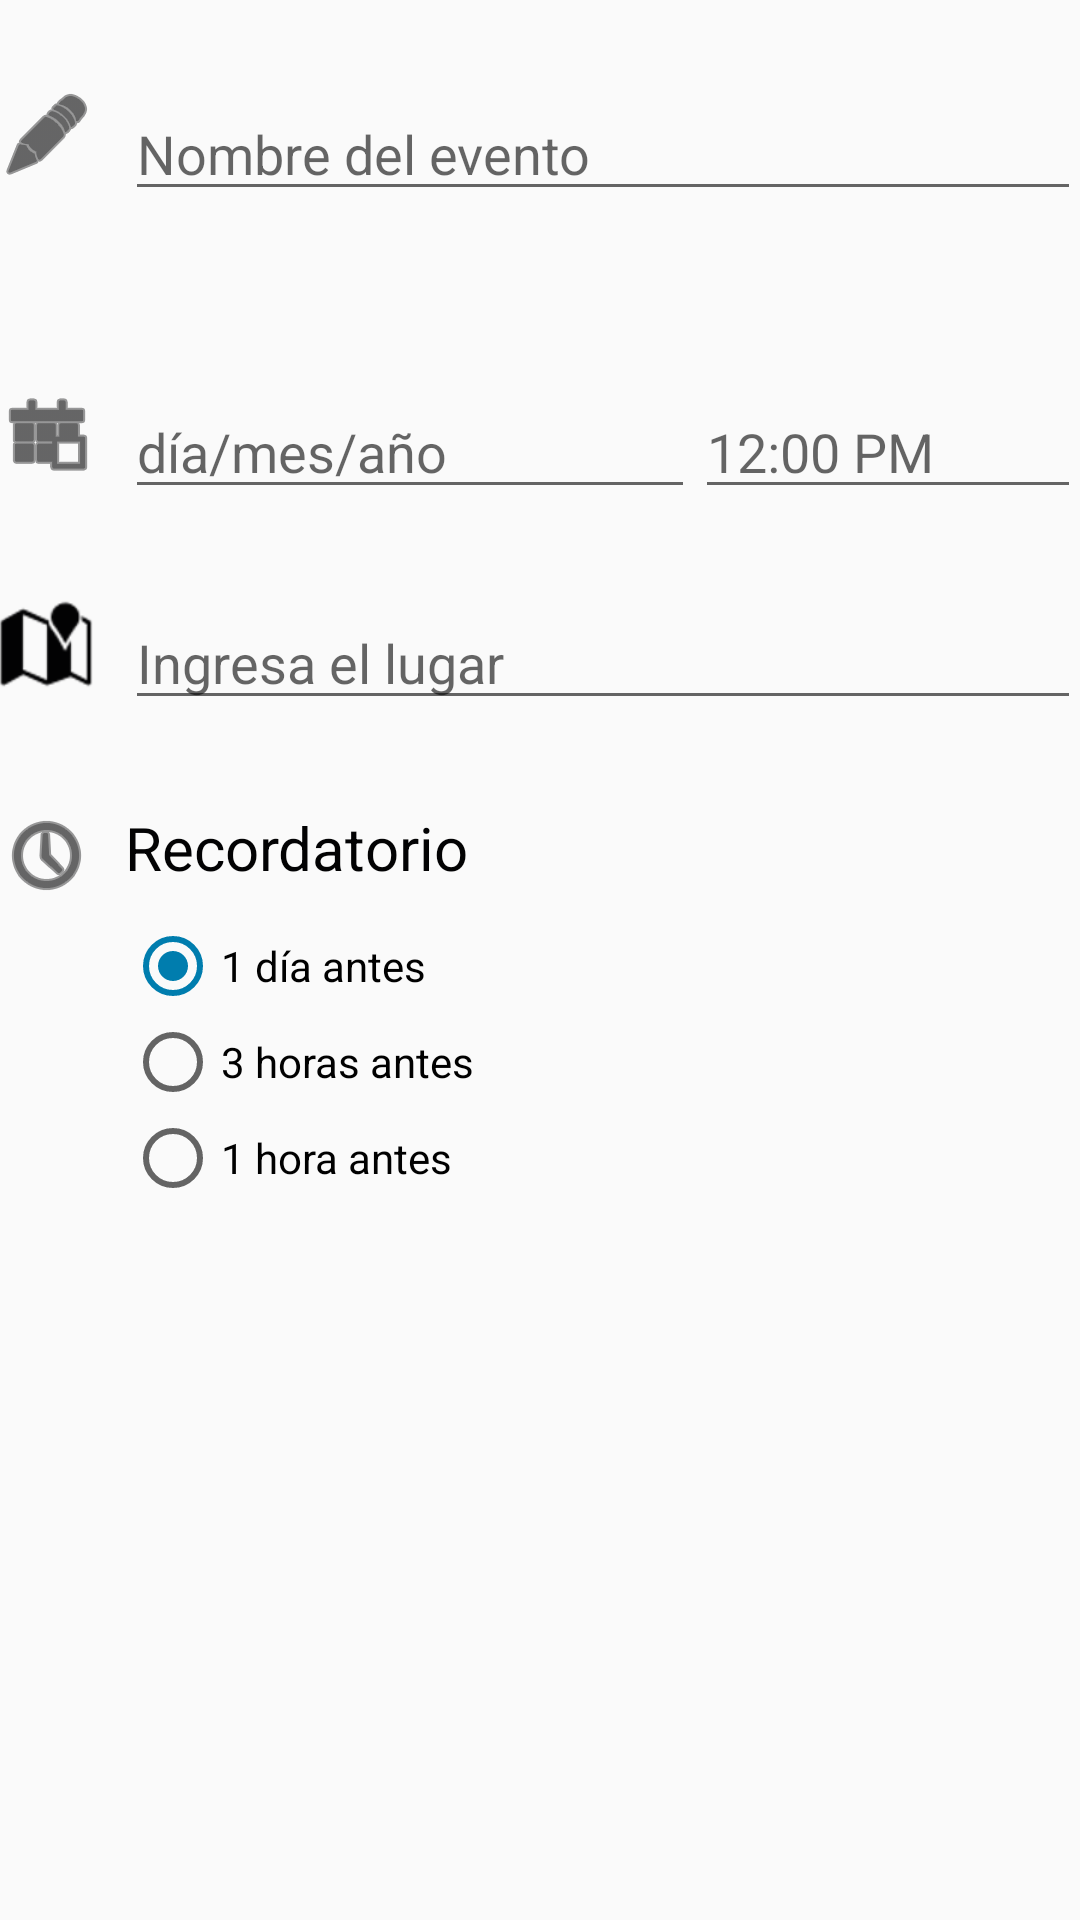

Named icons in this screenshot (1080 × 1920) and their centers, (x,y):
edit: (46,134)
map: (46,643)
recent history: (46,855)
today: (48,434)
